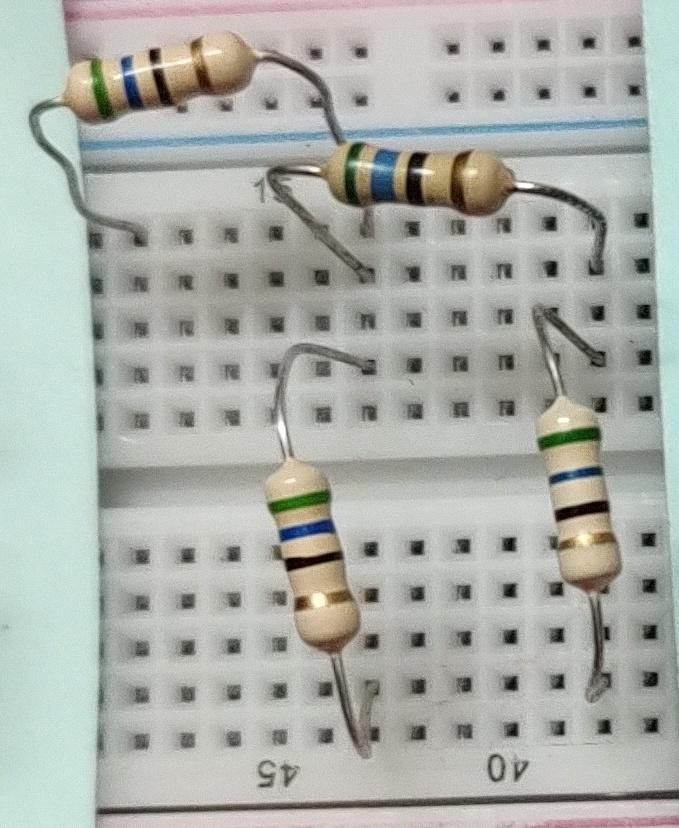resistor: (254, 452, 370, 666), (52, 22, 262, 137), (529, 382, 628, 600), (315, 134, 531, 222)
